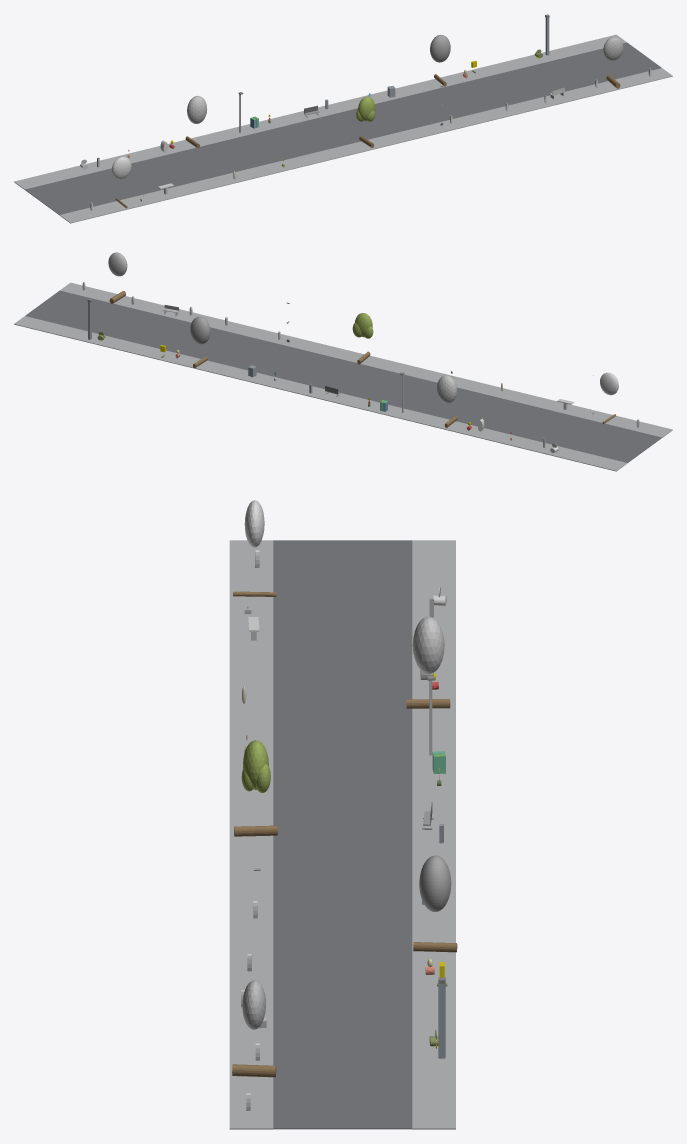
3 views of the same model, one above another, from view 1: azimuth 30°, elevation 25°; view 2: azimuth 150°, elevation 25°; view 3: azimuth 270°, elevation 25° (orthographic). The views are drawn at different scales.
Parts seen in each view (by area): view 1: road_slab, sidewalk_left, sidewalk_right, inst_0013, inst_0015, inst_0014, inst_0016, inst_0012; view 2: road_slab, sidewalk_right, sidewalk_left, inst_0013, inst_0015, inst_0014, inst_0016, inst_0012; view 3: road_slab, sidewalk_left, sidewalk_right, inst_0015, inst_0013, inst_0014, inst_0016, inst_0012.
Boxes of the visible parts, x1,y1,x2,y2 form: road_slab: (25, 42, 661, 214); sidewalk_left: (59, 68, 672, 223); sidewalk_right: (14, 34, 626, 189); inst_0013: (185, 95, 207, 148); inst_0015: (430, 35, 450, 86); inst_0014: (356, 96, 375, 147); inst_0016: (603, 37, 623, 88); inst_0012: (111, 157, 131, 208); road_slab: (25, 290, 661, 462); sidewalk_right: (14, 316, 627, 471); sidewalk_left: (60, 282, 672, 437); inst_0013: (436, 375, 457, 427); inst_0015: (190, 316, 210, 368); inst_0014: (352, 313, 373, 364); inst_0016: (108, 252, 127, 303); inst_0012: (600, 372, 618, 423); road_slab: (273, 540, 412, 1129); sidewalk_left: (229, 540, 273, 1129); sidewalk_right: (412, 540, 455, 1129); inst_0015: (413, 855, 457, 952); inst_0013: (406, 616, 450, 708); inst_0014: (234, 740, 277, 836); inst_0016: (232, 980, 276, 1077); inst_0012: (233, 500, 276, 596).
Bounding box in the file's own units: 80 × 6.08 × 13.08.
